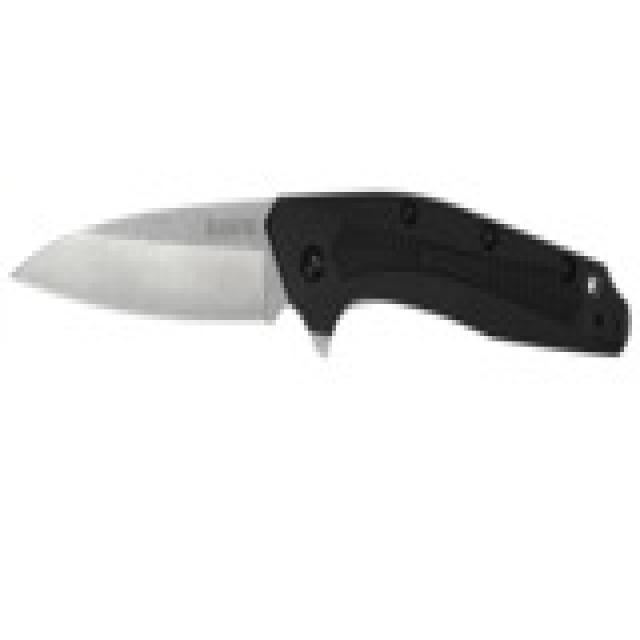Knife: (2, 190, 638, 384)
